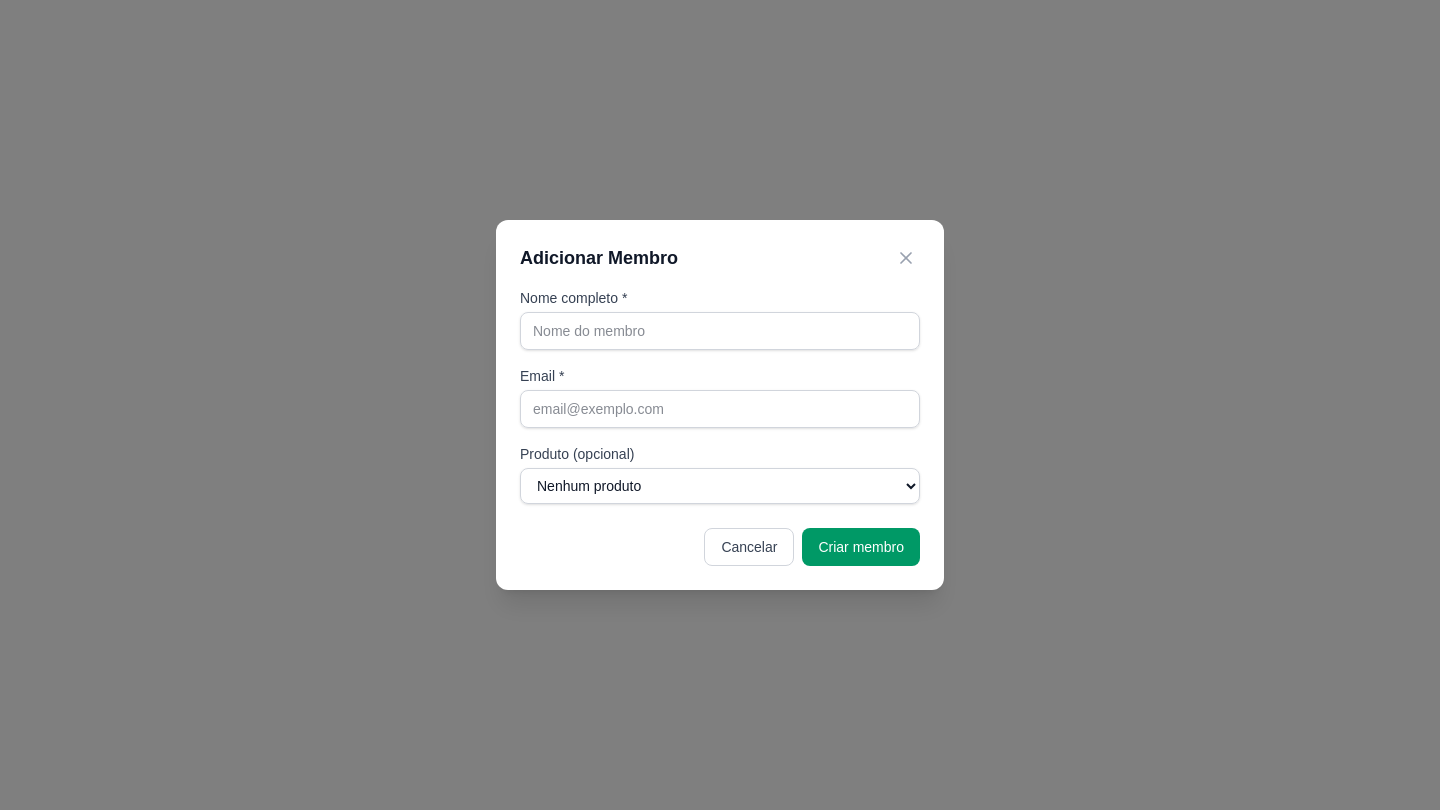
Test: AddMemberDialog › shows validation errors for empty fields
Click the button "Criar membro" at coordinates (861, 547), box [802, 528, 920, 566]
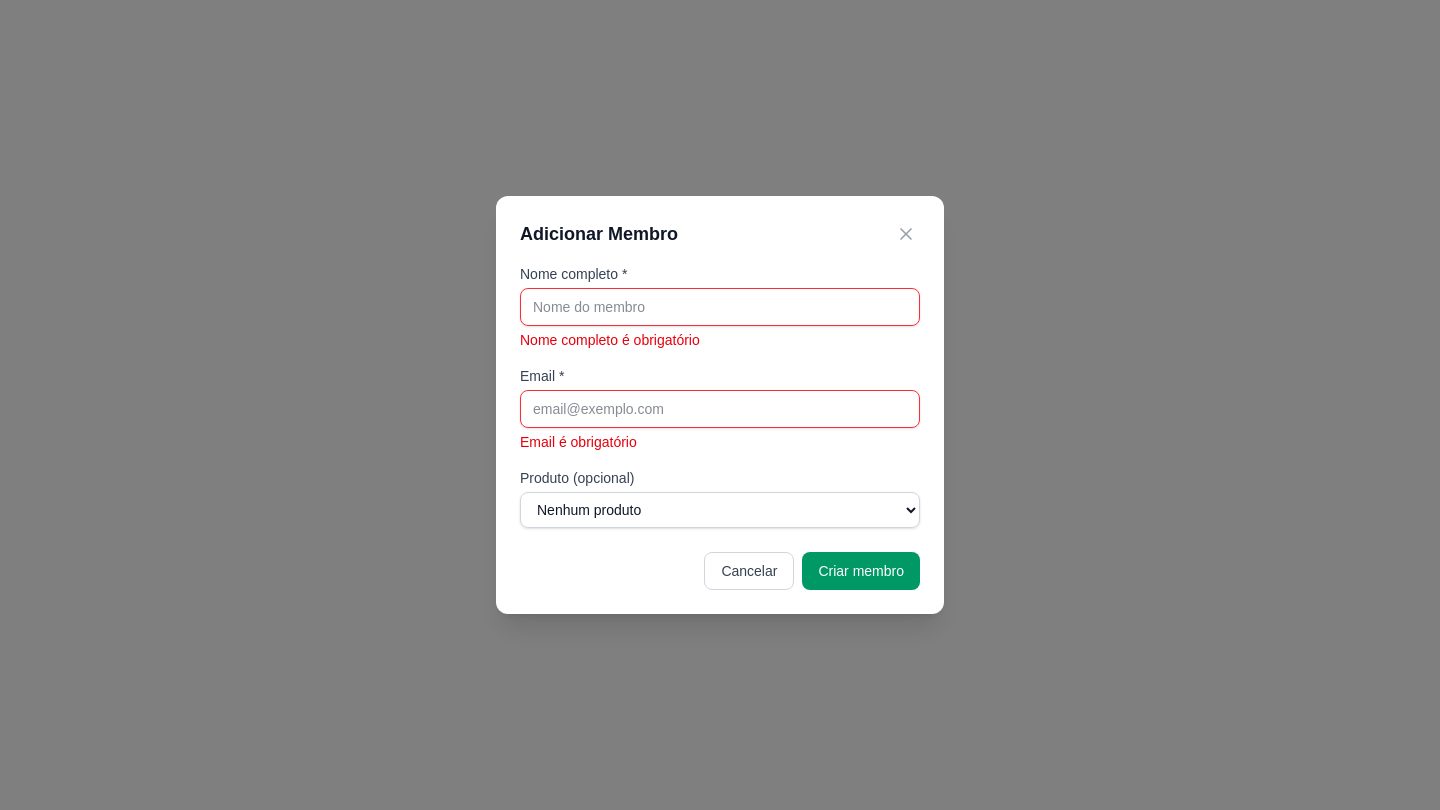
Expected: the text "Nome completo é obrigatório" is shown, [520, 332, 700, 348]
Expected: the text "Email é obrigatório" is shown, [520, 434, 637, 450]
